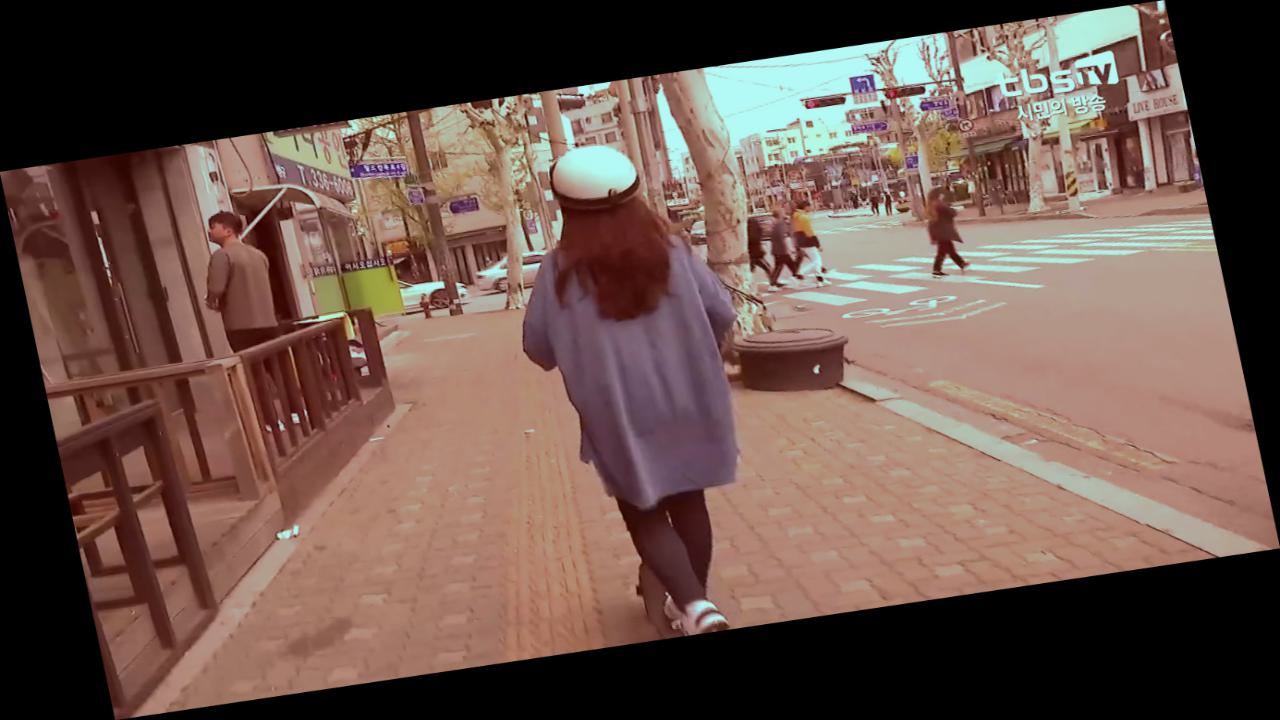helmet: (479, 125, 807, 651)
